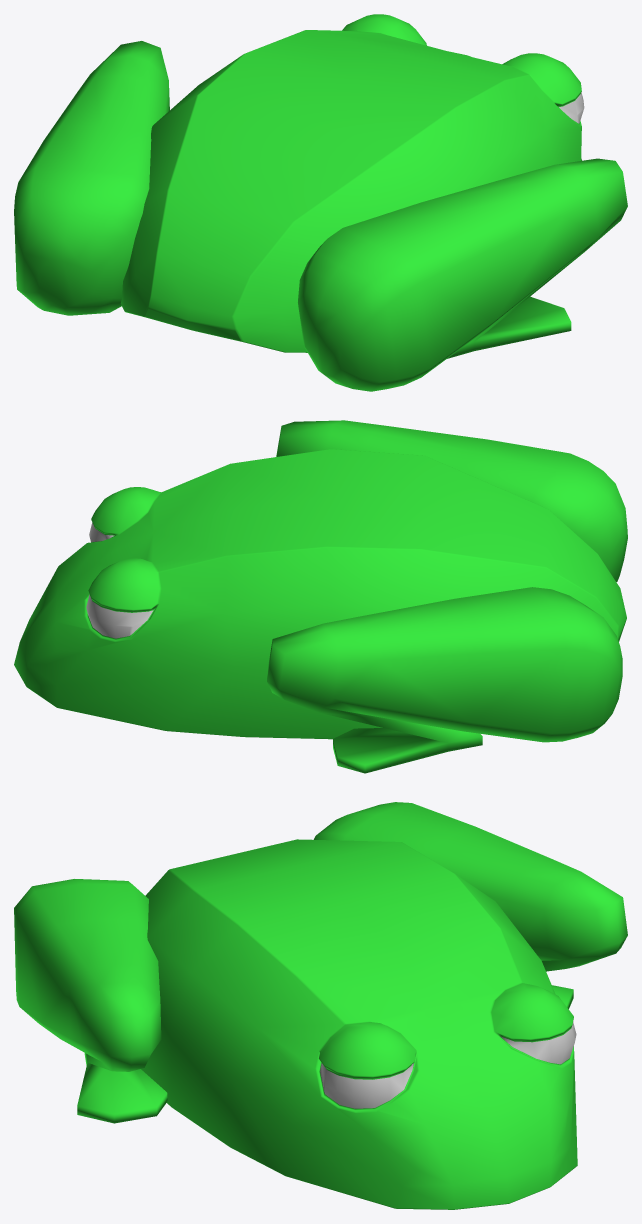
The model's file is Item_Frog.fbx.
3 renders of one model, top to bottom at view 1: azimuth 30°, elevation 25°; view 2: azimuth 150°, elevation 25°; view 3: azimuth 270°, elevation 25°, orthographic. The views are drawn at different scales.
Parts seen in each view (by area): view 1: Cube.068; view 2: Cube.068; view 3: Cube.068.
Boxes of the visible parts, <box> form: Cube.068: <box>14,14,627,391</box>; Cube.068: <box>14,420,627,773</box>; Cube.068: <box>14,802,627,1209</box>.
Bounding box in the file's own units: 152 × 45.17 × 138.
